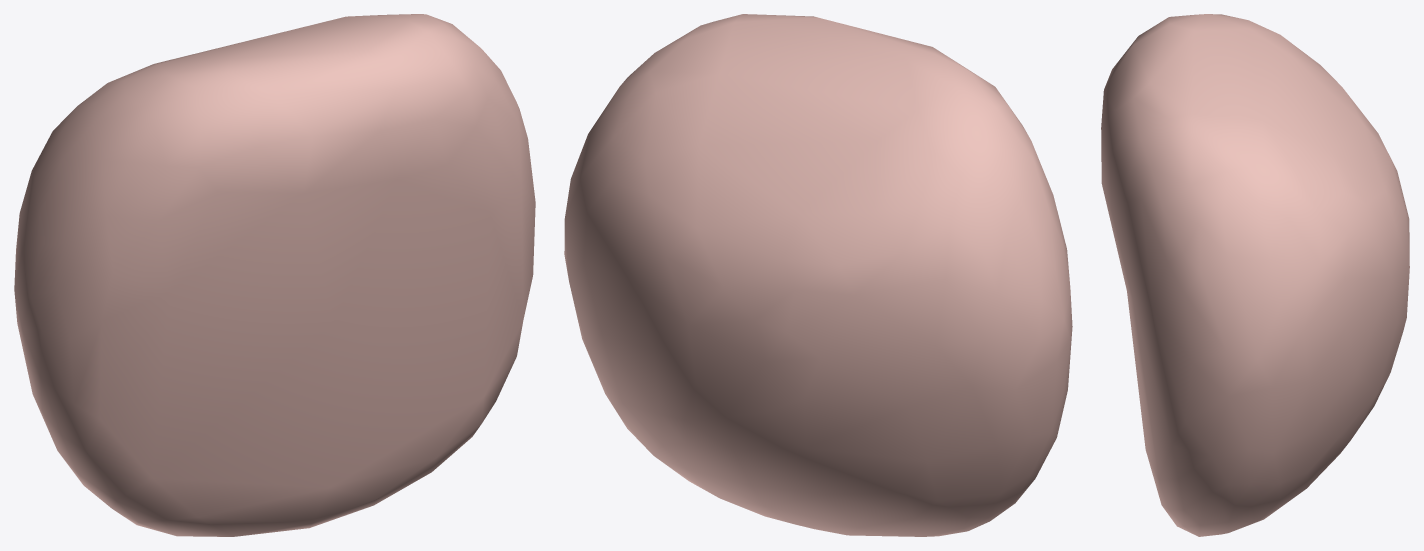
Rendered from organ-prostate.glb.
The picture shows the model from 3 angles, left to right: view 1: azimuth 30°, elevation 25°; view 2: azimuth 150°, elevation 25°; view 3: azimuth 270°, elevation 25°; orthographic projection. The views are drawn at different scales.
Parts seen in each view (by area): view 1: organ-prostate; view 2: organ-prostate; view 3: organ-prostate.
Part boxes in pixels (bbox=[...]): organ-prostate: bbox=[14, 14, 535, 536]; organ-prostate: bbox=[564, 14, 1072, 536]; organ-prostate: bbox=[1101, 14, 1409, 536].
Size of the model in its own units: 0.5 by 0.466 by 0.2969.
